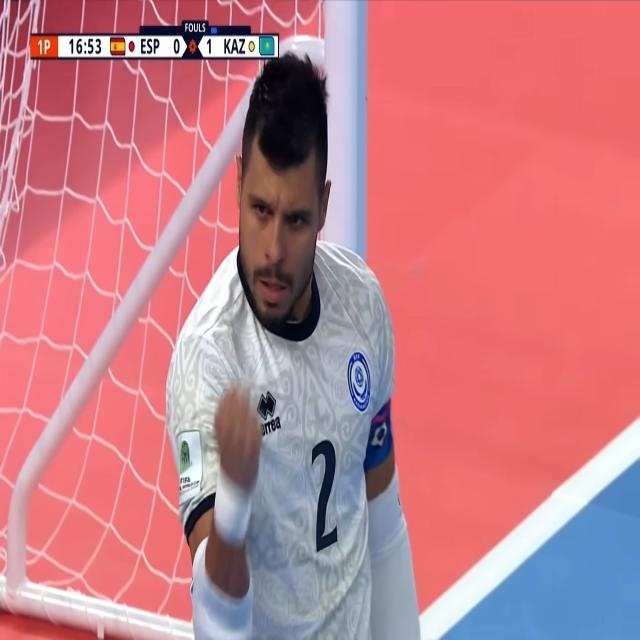Goal-keeper: (171, 57, 437, 640)
